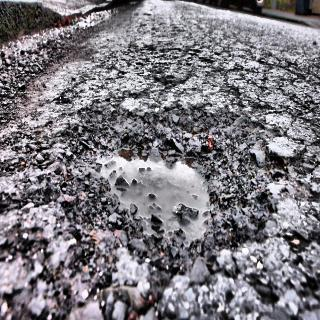pothole: (72, 101, 274, 255)
